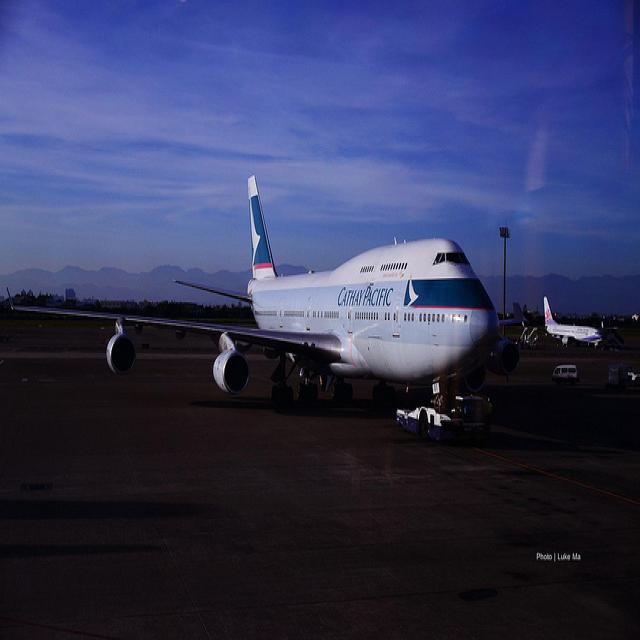Vehicle: (396, 391, 490, 442), (552, 364, 580, 384)
